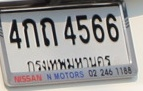num4: (7, 18, 23, 50)
txt01: (21, 18, 41, 49)
txt17: (39, 17, 60, 48)
